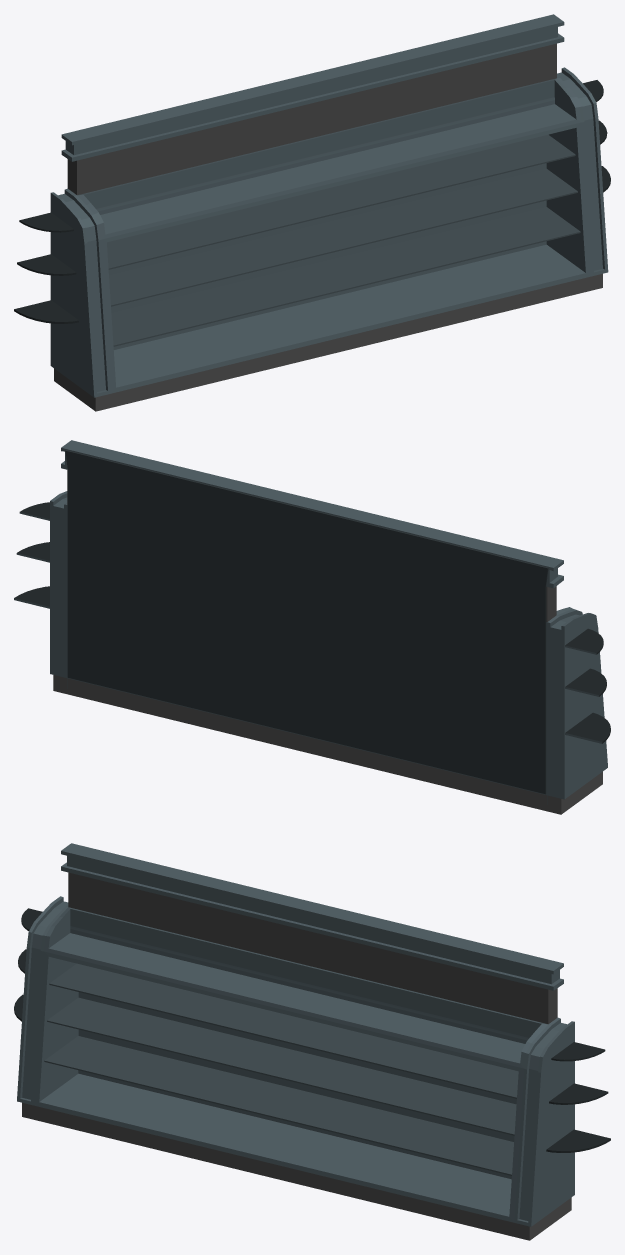
Rendered from One Sided Shelving Large.fbx.
3 views of the same model, one above another, from view 1: azimuth 30°, elevation 25°; view 2: azimuth 150°, elevation 25°; view 3: azimuth 330°, elevation 25° (orthographic).
Parts seen in each view (by area): view 1: One Sided Shelving Large; view 2: One Sided Shelving Large; view 3: One Sided Shelving Large.
Boxes of the visible parts, x1,y1,x2,y2 form: One Sided Shelving Large: [14, 14, 610, 411]; One Sided Shelving Large: [14, 440, 610, 814]; One Sided Shelving Large: [14, 843, 610, 1240].
Bounding box in the file's own units: 404 × 161 × 52.58.
Materials: 2 (2 with a texture image).
